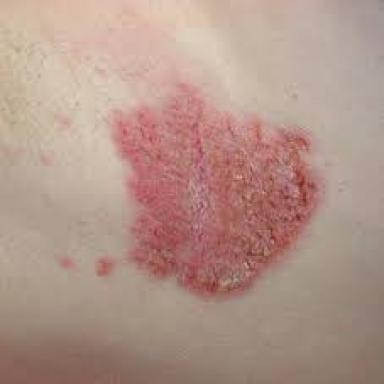Hailey-Hailey-Disease: (113, 83, 317, 292)
